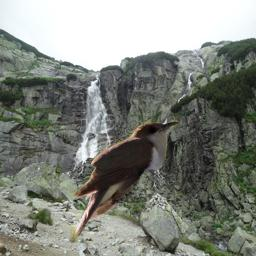Cuckoo: (70, 119, 180, 250)
